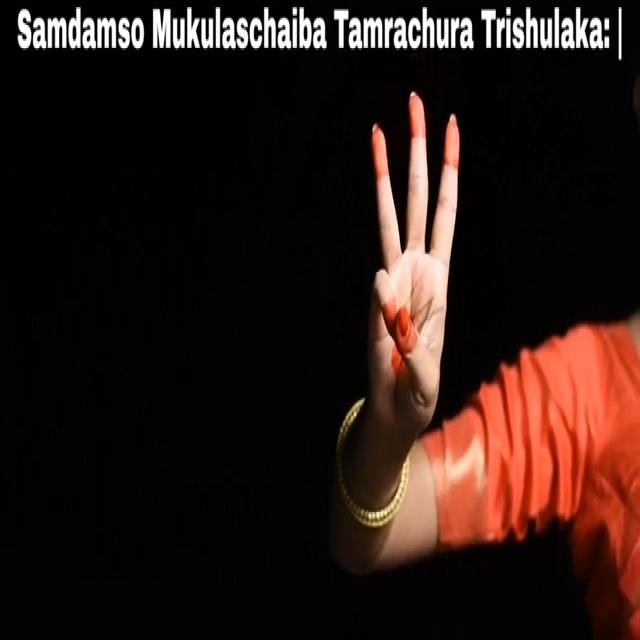Trishula: (347, 74, 472, 464)
bangle: (325, 412, 415, 534)
text: (3, 0, 630, 71)
